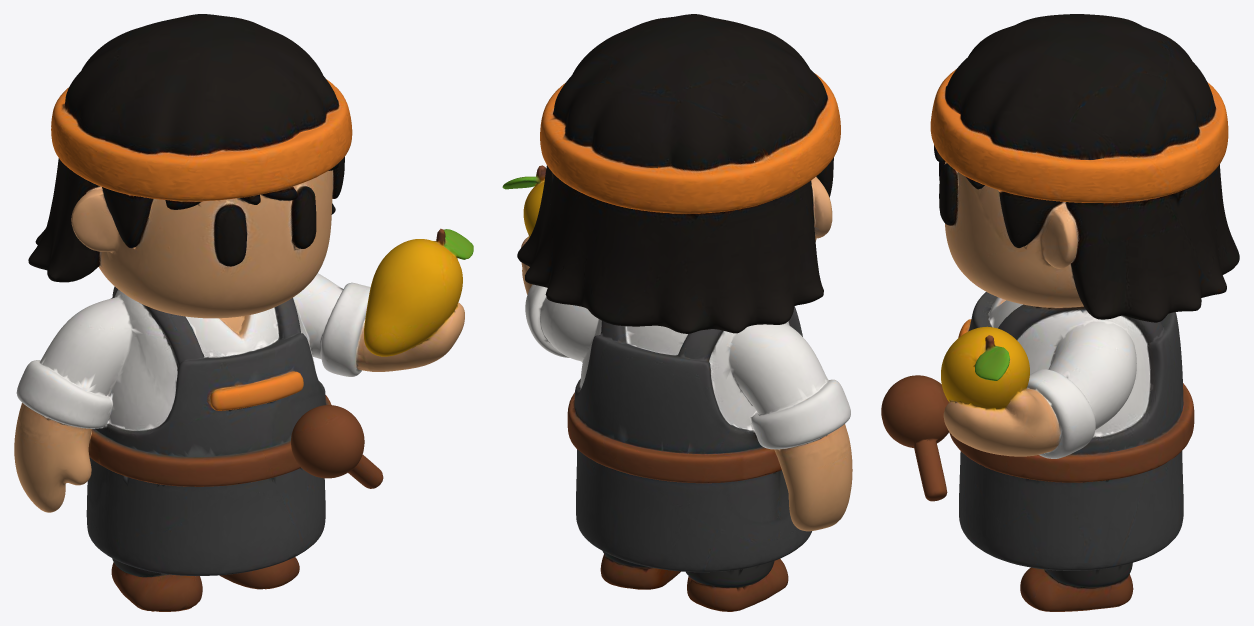
File: arena-keeper.glb
3 renders of one model, left to right at view 1: azimuth 30°, elevation 25°; view 2: azimuth 150°, elevation 25°; view 3: azimuth 270°, elevation 25°, orthographic.
Parts seen in each view (by area): view 1: tripo_node_efbca0f3-a847-4593-aacc-cc8599f82e94; view 2: tripo_node_efbca0f3-a847-4593-aacc-cc8599f82e94; view 3: tripo_node_efbca0f3-a847-4593-aacc-cc8599f82e94.
Boxes of the visible parts, <box> form: tripo_node_efbca0f3-a847-4593-aacc-cc8599f82e94: <box>14,14,473,611</box>; tripo_node_efbca0f3-a847-4593-aacc-cc8599f82e94: <box>502,14,852,611</box>; tripo_node_efbca0f3-a847-4593-aacc-cc8599f82e94: <box>881,14,1239,611</box>.
Size of the model in its own units: 0.7471 by 0.9783 by 0.586.
1 material, 1 textured.
